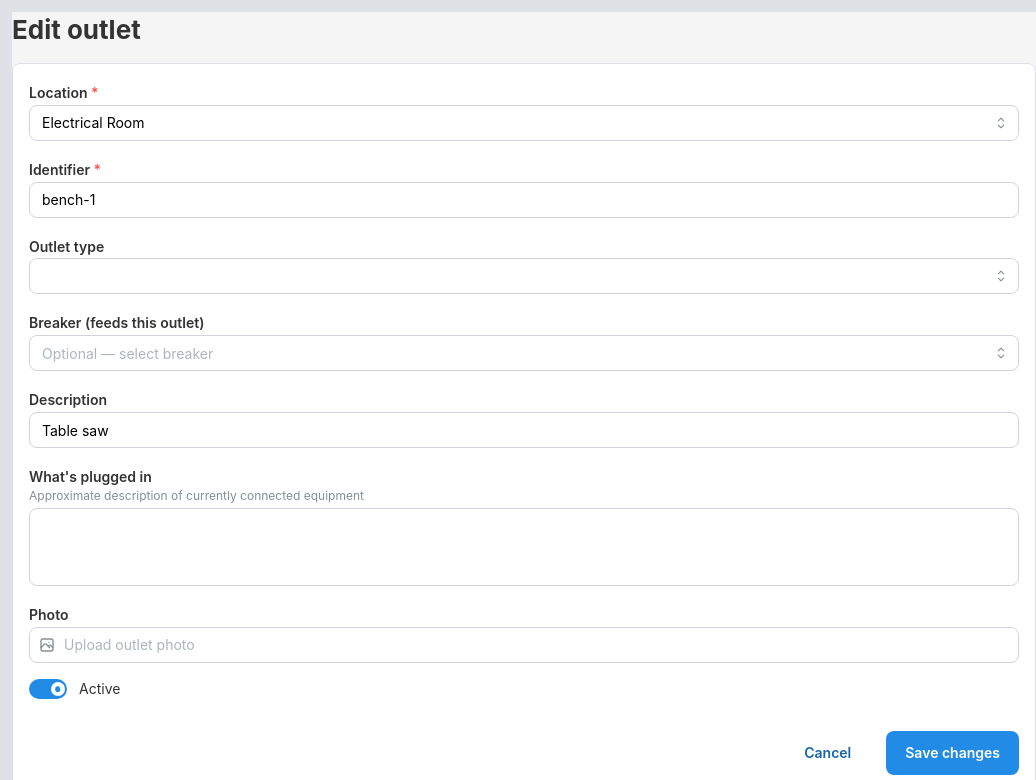
Scenario: OutletFormPage resilience states › surfaces a save-failure message when the request errors (AC-19)
The width and height of the screenshot is (1036, 780).
Expected: the field showing "bench-1" is shown, [29,182,1019,218]
Click the button "Save changes". click: (953, 753)
box: [886,731,1019,775]
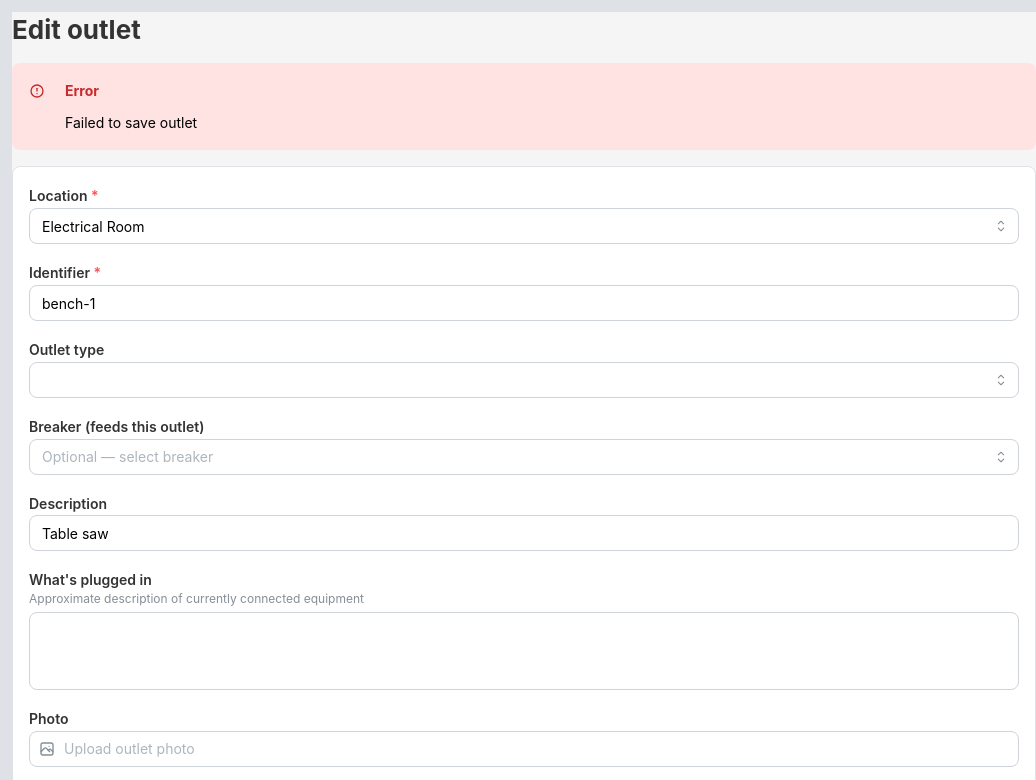
Now the text "Failed to save outlet" is shown, box [65,114,197,131]
